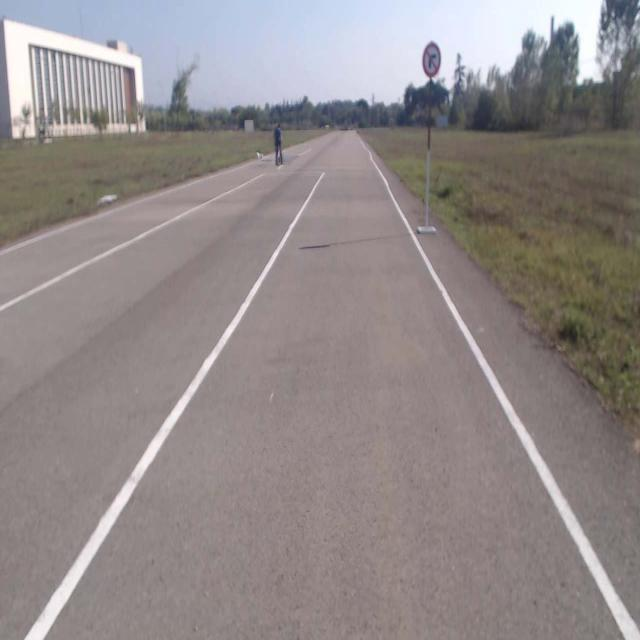sagadonulmez: (423, 41, 441, 76)
